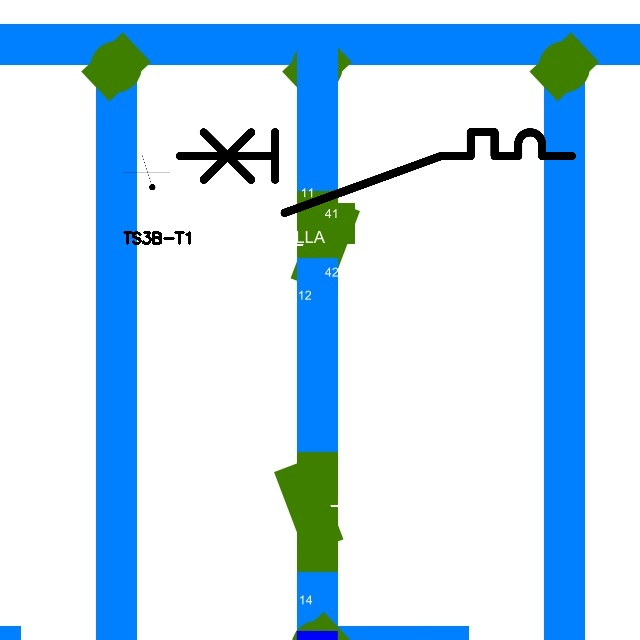interruptor_termomagnetico: (169, 122, 582, 223)
